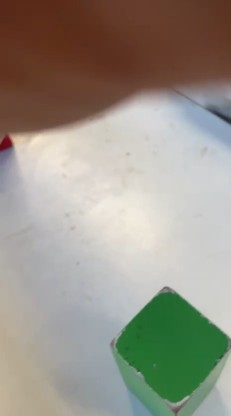green: (115, 287, 207, 412)
